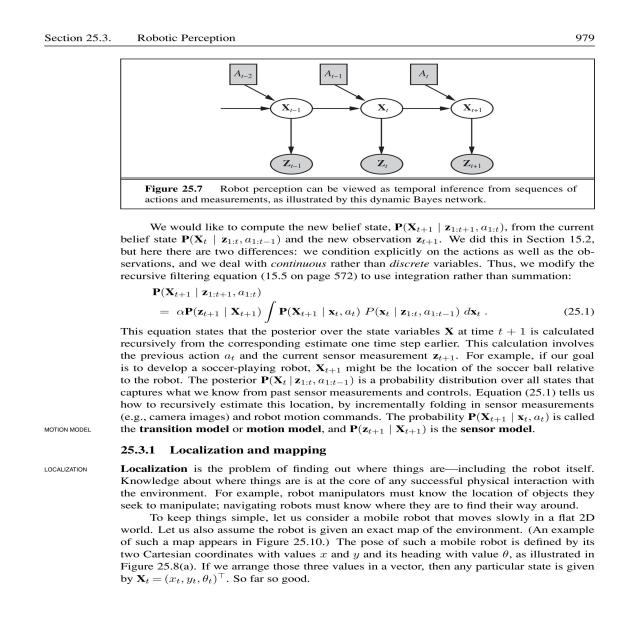diagram: (105, 54, 592, 210)
